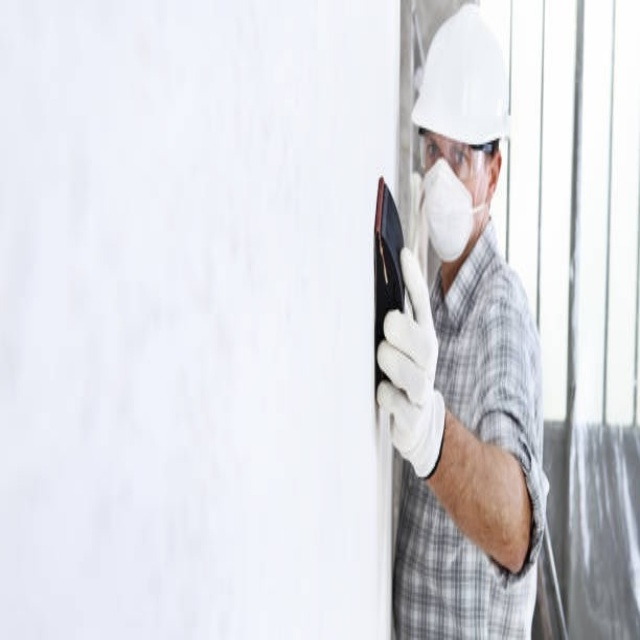Gafas: (418, 130, 498, 178)
Guantes: (377, 244, 448, 480)
Mascara: (420, 154, 486, 262)
